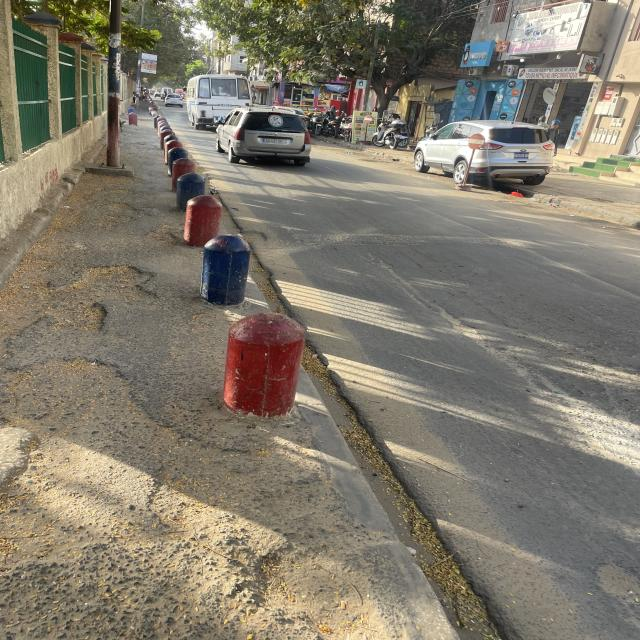bus tata: (186, 75, 253, 131)
moto: (373, 115, 411, 150), (324, 107, 346, 139), (309, 115, 324, 136)
particulier: (414, 121, 556, 186), (216, 107, 313, 167), (166, 95, 184, 109)
